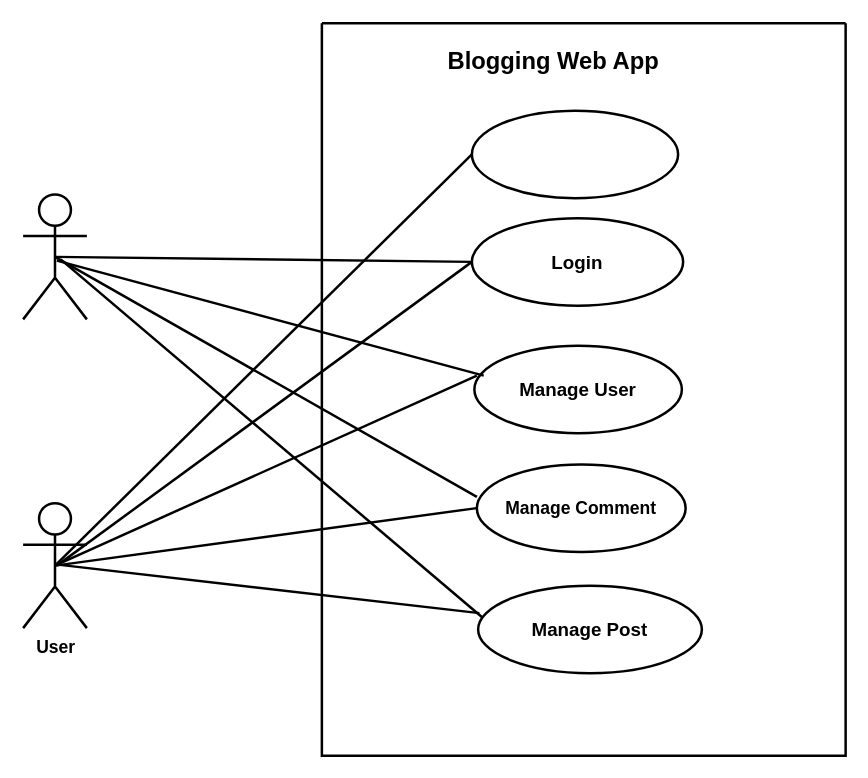
The diagram is 868 pixels wide and 778 high, and some of its shapes have lost their labels. Here are the shapes that lost their labels. From the top down, the centre of each, then its label:
At point 574,154: "Register".
At point 54,256: "Admin".
